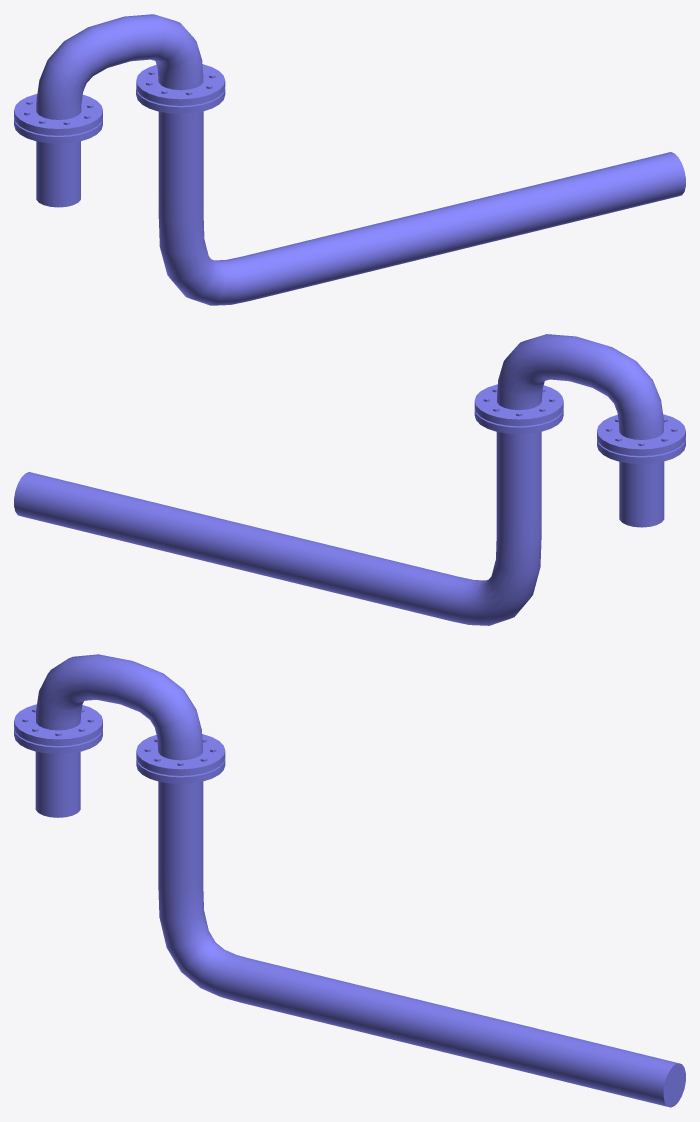
The picture shows the model from 3 angles, top to bottom: view 1: azimuth 30°, elevation 25°; view 2: azimuth 150°, elevation 25°; view 3: azimuth 330°, elevation 25°; orthographic projection.
Visible parts, largest first — view 1: Cylinder001, Cylinder003, Cylinder005, Cylinder004, Cylinder006; view 2: Cylinder001, Cylinder005, Cylinder003, Cylinder004, Cylinder006; view 3: Cylinder001, Cylinder003, Cylinder005, Cylinder004, Cylinder006.
Boxes of the visible parts, bbox=[...] form: Cylinder001: bbox=[36, 14, 685, 305]; Cylinder003: bbox=[136, 64, 225, 105]; Cylinder005: bbox=[14, 94, 102, 135]; Cylinder004: bbox=[136, 88, 225, 113]; Cylinder006: bbox=[14, 118, 102, 143]; Cylinder001: bbox=[14, 334, 664, 625]; Cylinder005: bbox=[597, 414, 685, 455]; Cylinder003: bbox=[474, 384, 563, 426]; Cylinder004: bbox=[474, 408, 563, 434]; Cylinder006: bbox=[597, 438, 685, 464]; Cylinder001: bbox=[35, 654, 685, 1107]; Cylinder003: bbox=[136, 734, 225, 775]; Cylinder005: bbox=[14, 704, 102, 746]; Cylinder004: bbox=[136, 758, 225, 783]; Cylinder006: bbox=[14, 728, 102, 754].
Size of the model in its own units: 10.19 by 4.61 by 1.2.
